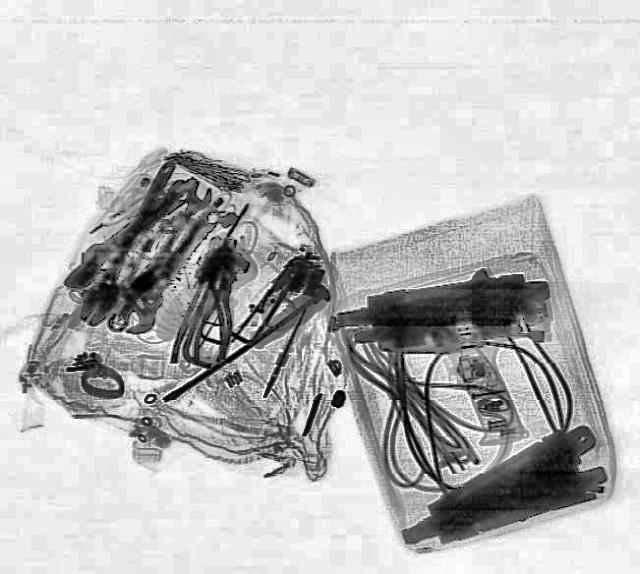Pliers: (184, 264, 246, 366)
Wrench: (68, 154, 185, 330), (103, 198, 230, 342), (50, 179, 200, 292)
